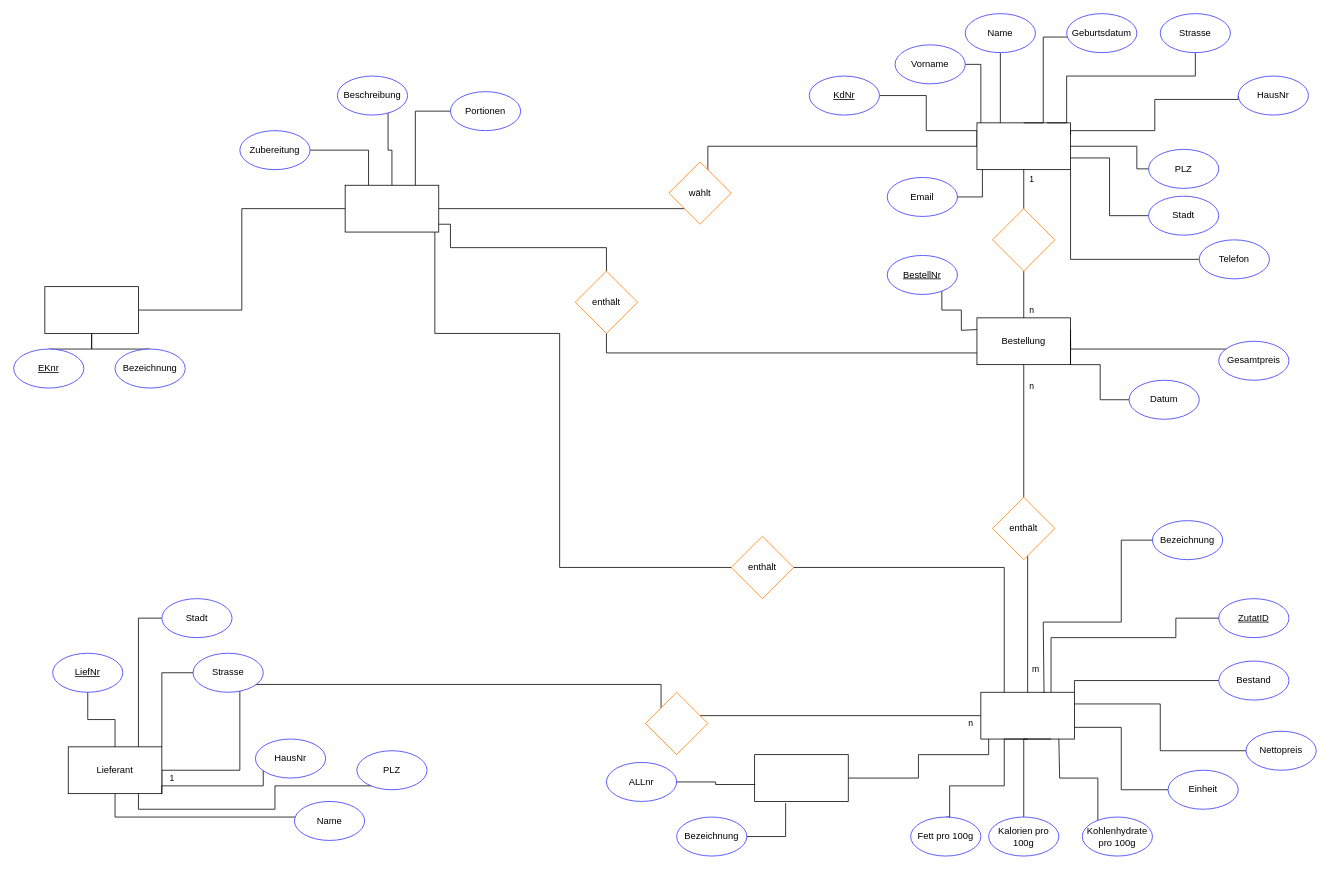
This 1330x876 diagram has some shape labels left out. Here are the shapes that lost their labels. From the top down, the box of each, then its label:
(976, 122, 1071, 170): Kunde
(344, 184, 439, 232): Rezept
(992, 208, 1055, 271): tätigt
(44, 286, 138, 333): Ernährungskategorie
(645, 691, 708, 755): liefert
(980, 691, 1074, 739): Zutat
(754, 754, 848, 801): Allergene
